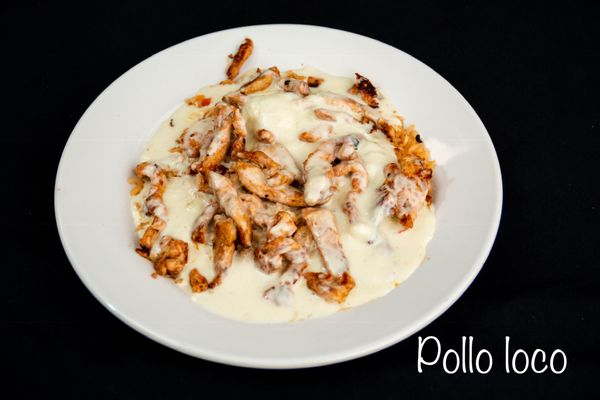curry: (13, 1, 598, 388)
sandwich: (128, 48, 443, 307)
